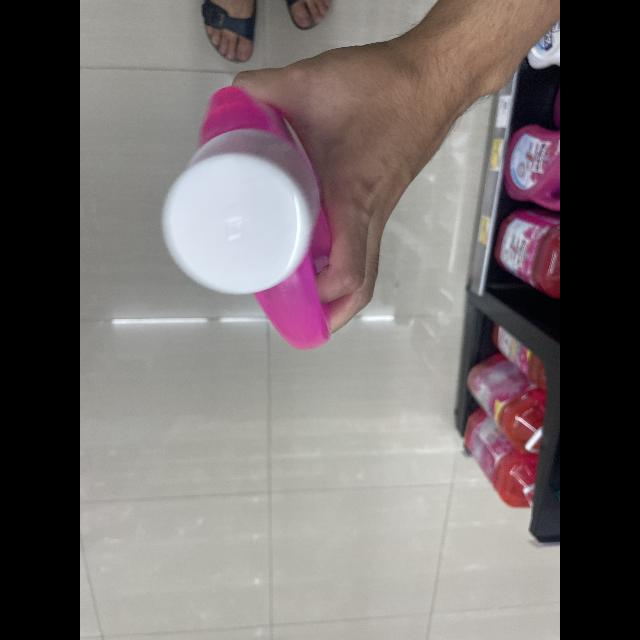chemical_plastic_gallon: (160, 69, 368, 358)
